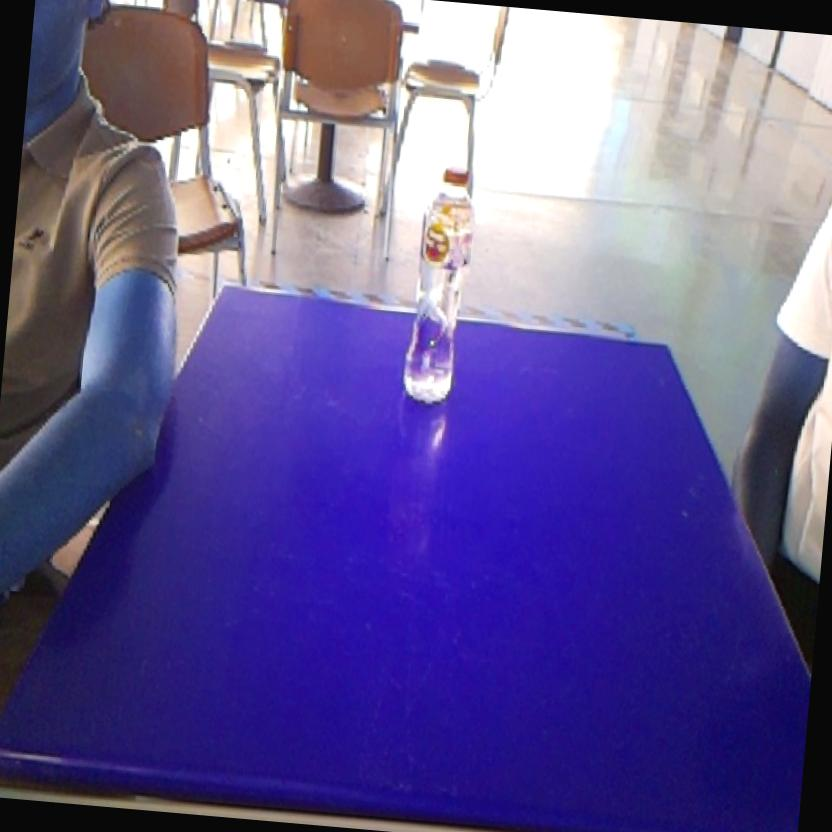good: (393, 151, 486, 419)
